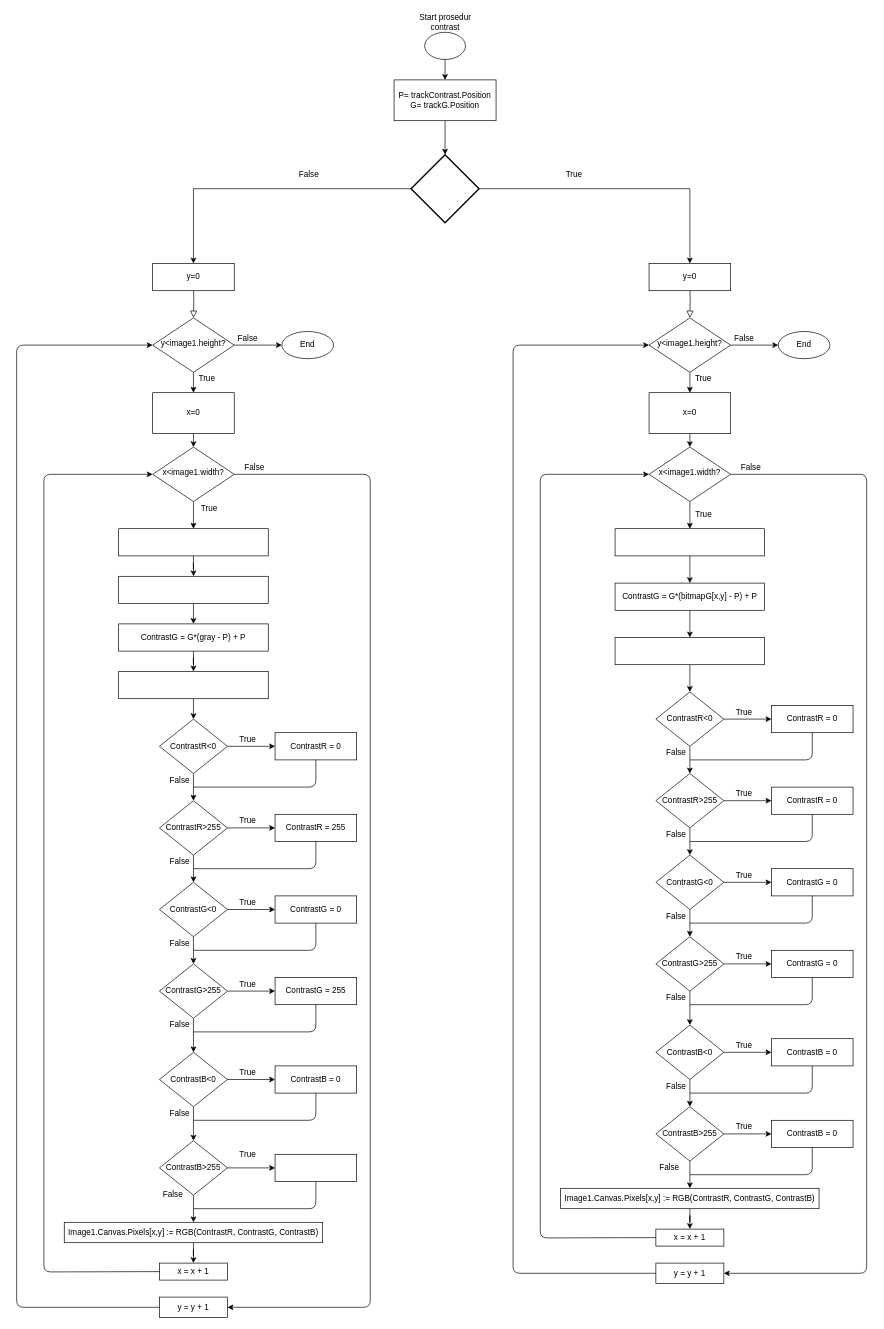
Some shapes in this 884 by 1329 pixel diagram are drawn without their labels. Here are the shapes that lost their labels. From the top down, the box of each, then its label:
(424, 32, 465, 60): Start
(410, 154, 479, 223): modeWarna
(118, 528, 268, 556): gray =(bitmapR + bitmapG + bitmapB) / 3
(614, 528, 765, 556): ContrastR = G*(bitmapR[x,y] - P) + P
(118, 576, 268, 604): ContrastR = G*(gray - P) + P
(614, 637, 765, 665): ContrastB = G*(bitmapB[x,y] - P) + P
(118, 671, 268, 699): ContrastB = G*(gray - P) + P
(274, 1154, 357, 1182): ContrastB = 255
